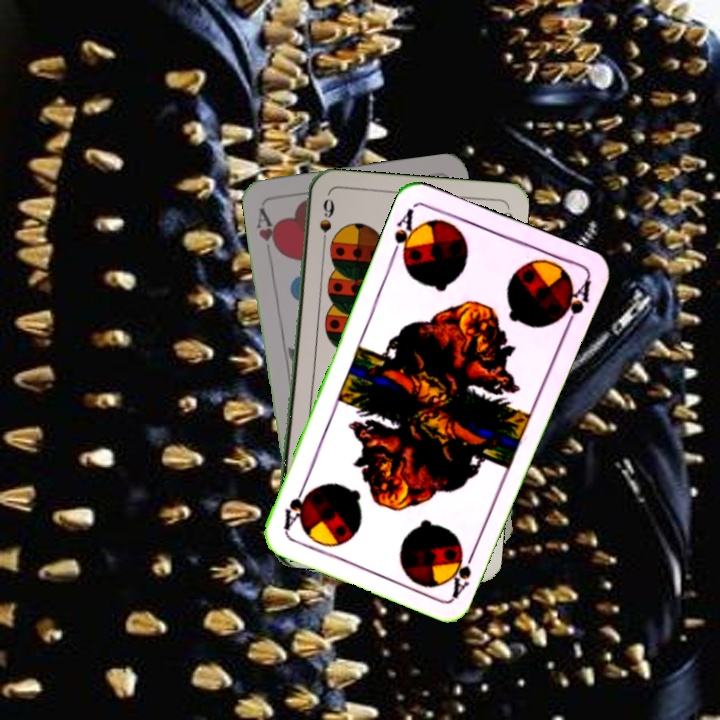HA: (252, 204, 283, 261)
S9: (315, 195, 335, 253)
SA: (386, 204, 423, 265), (448, 542, 479, 599)
